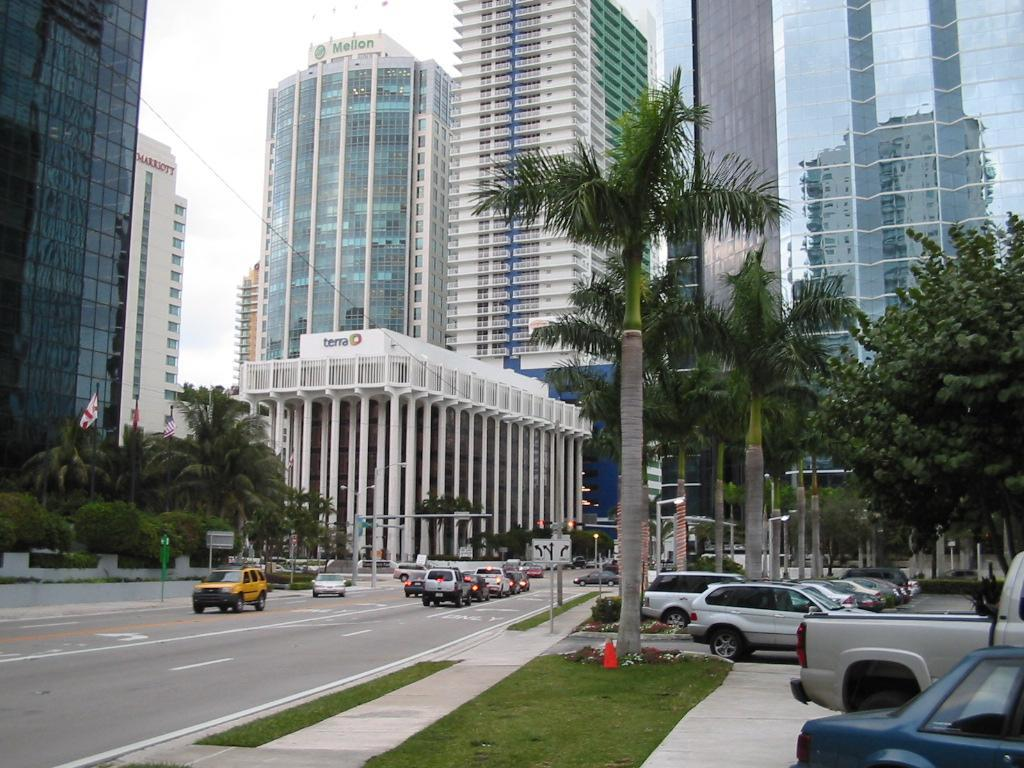mobil: (680, 576, 871, 666), (179, 568, 266, 616), (310, 574, 348, 600)
